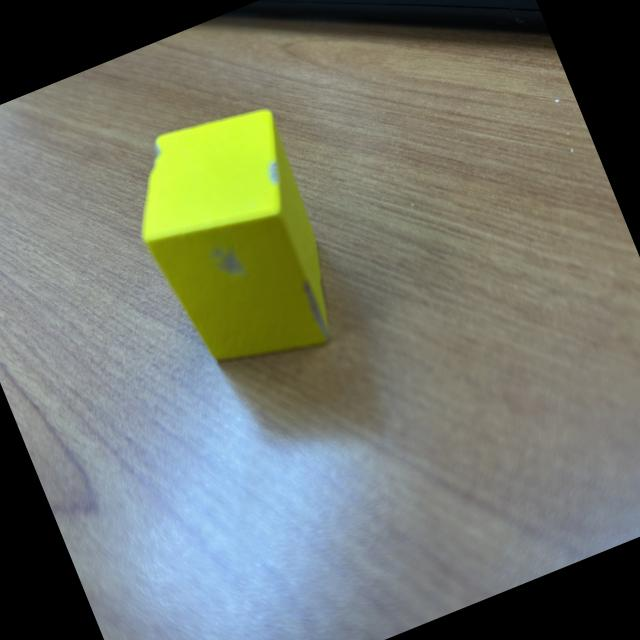broken: (107, 92, 360, 394)
